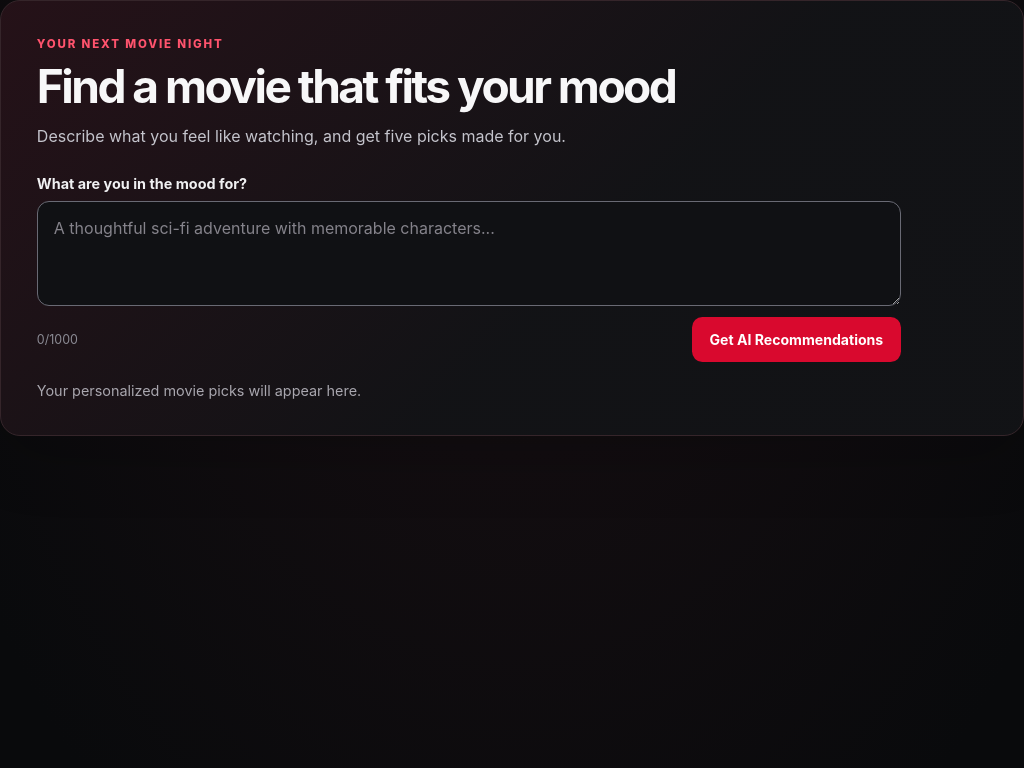
Scenario: AIRecommendationSection › prevents duplicate submissions while a request is pending
Type "space exploration" into the text box labelled "What are you in the mood for?" at (469,254), box [37,201,901,306]
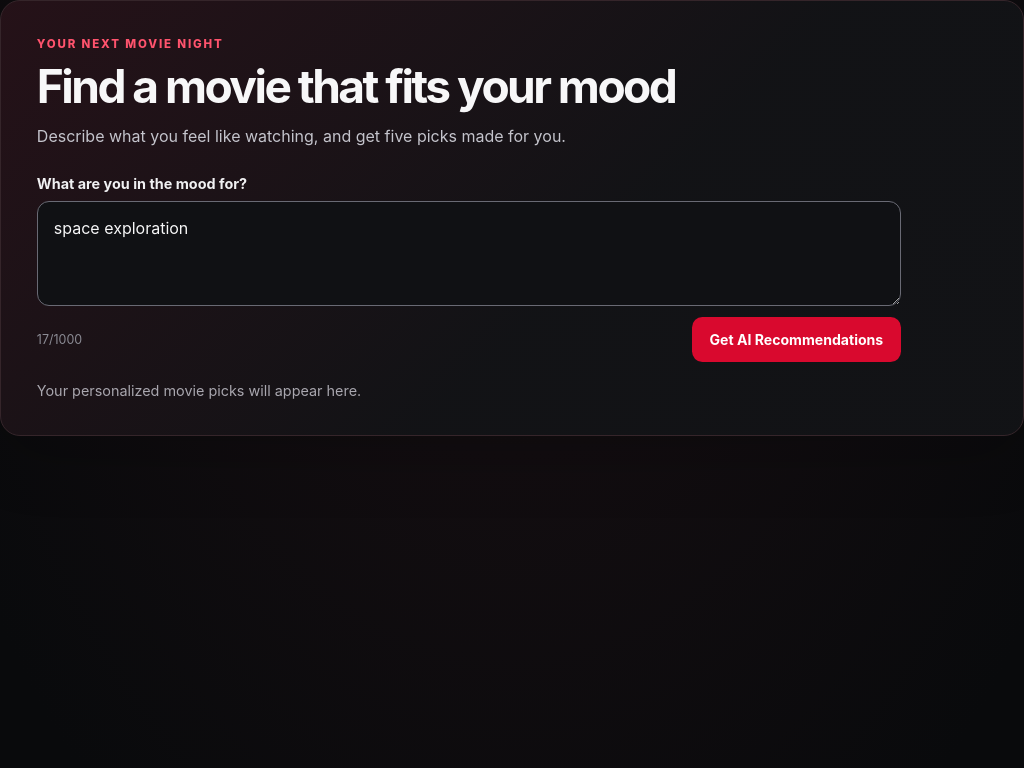
Submit the form labelled "What are you in the mood for?", box [37,175,901,362]
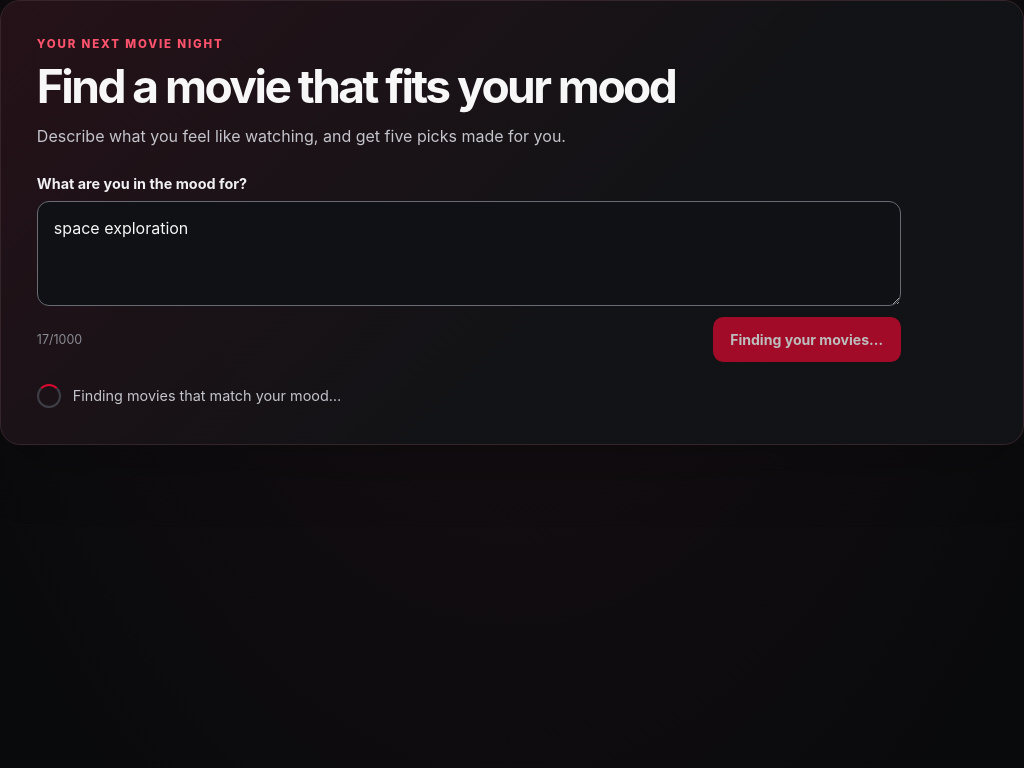
Submit the form labelled "What are you in the mood for?", box [37,175,901,362]
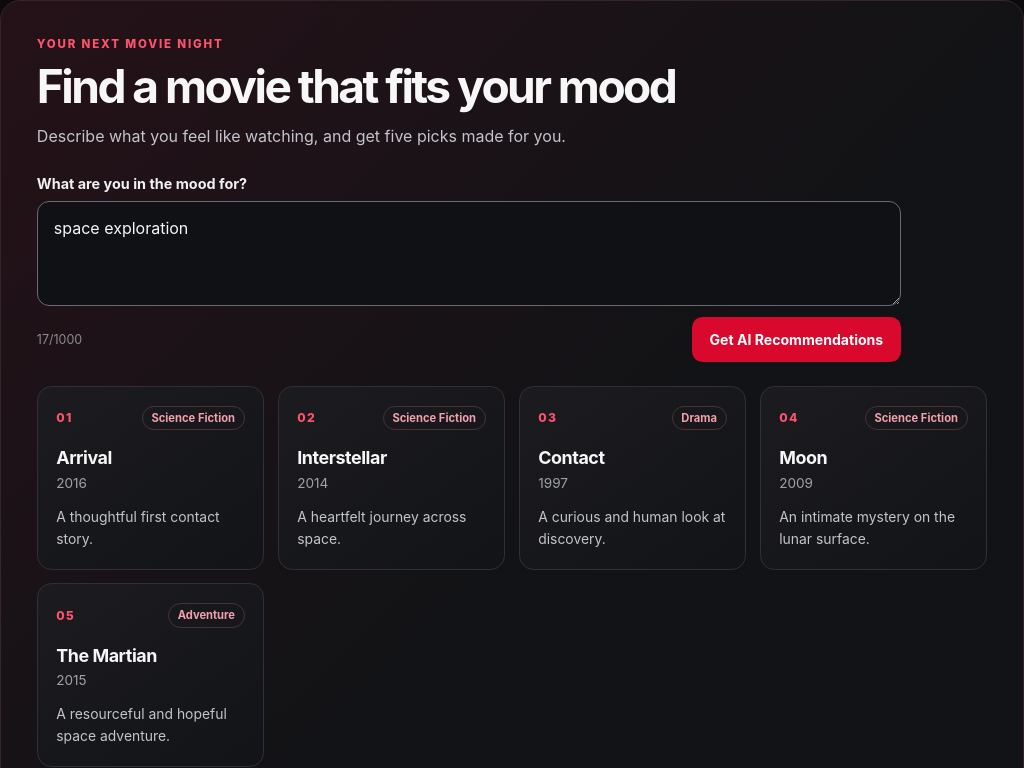
Check: the heading "Arrival" is shown, box [56,448,112,468]
